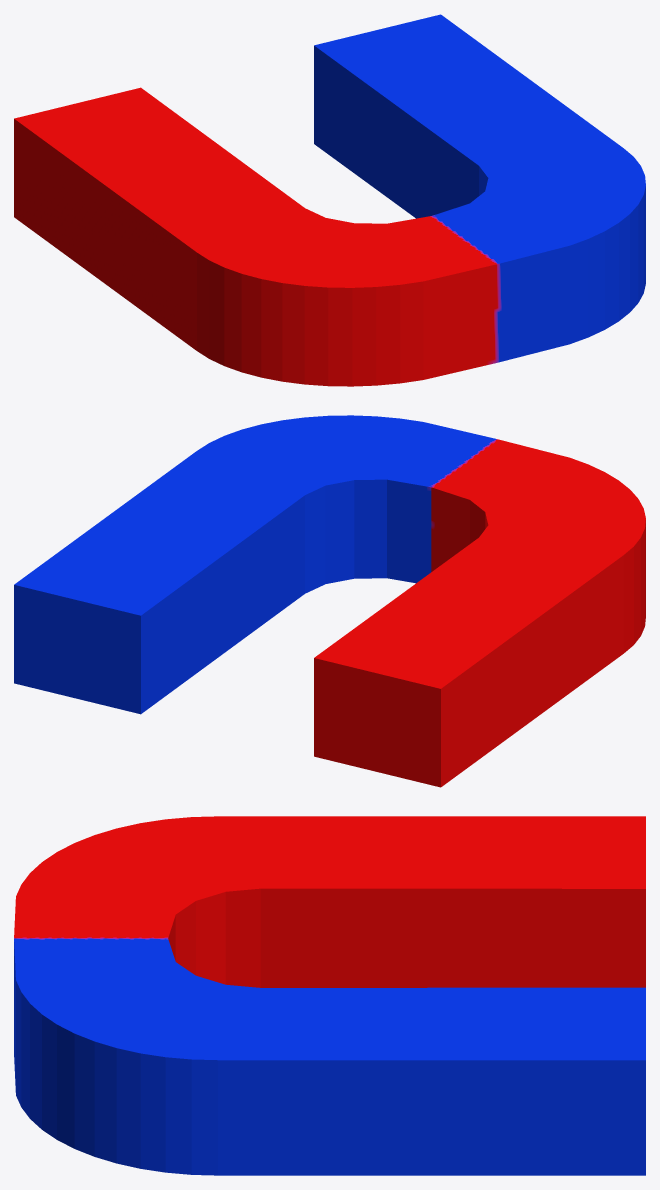
Rendered from Item_Instant_Magnet_1.fbx.
3 renders of one model, top to bottom at view 1: azimuth 30°, elevation 25°; view 2: azimuth 150°, elevation 25°; view 3: azimuth 270°, elevation 25°, orthographic. The views are drawn at different scales.
Visible parts, largest first — view 1: Item_Instant_Magnet_1; view 2: Item_Instant_Magnet_1; view 3: Item_Instant_Magnet_1.
Boxes of the visible parts, x1,y1,x2,y2 form: Item_Instant_Magnet_1: (14,14,645,386); Item_Instant_Magnet_1: (14,415,645,787); Item_Instant_Magnet_1: (14,816,645,1175).
Bounding box in the file's own units: 65.97 × 14.56 × 72.27.
